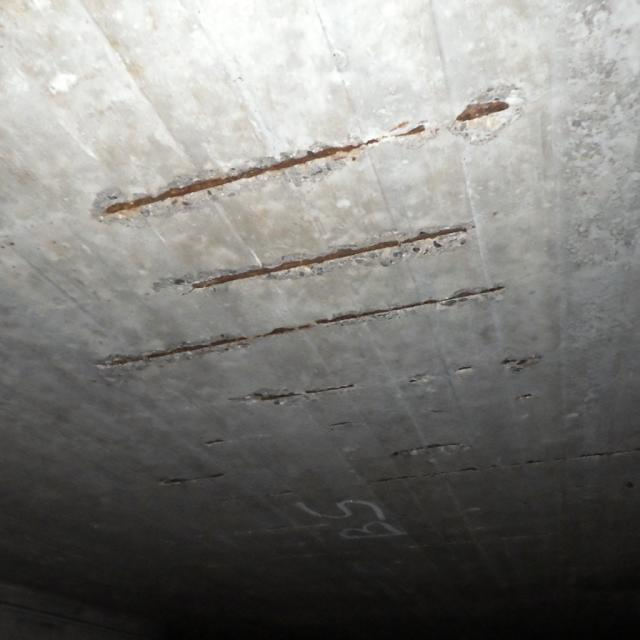D0w0: (94, 106, 513, 367)
